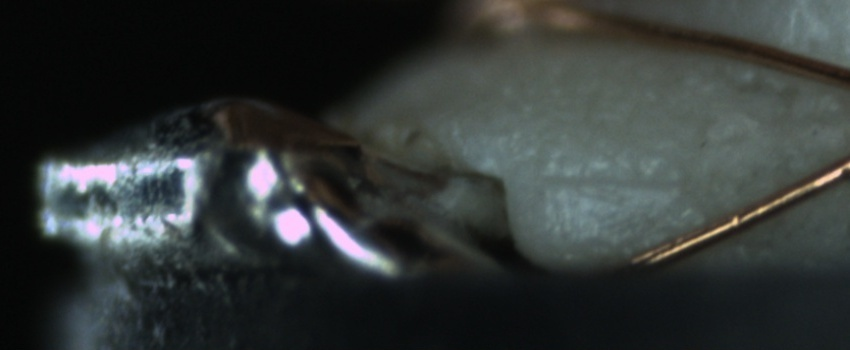DL: (541, 148, 679, 211)
